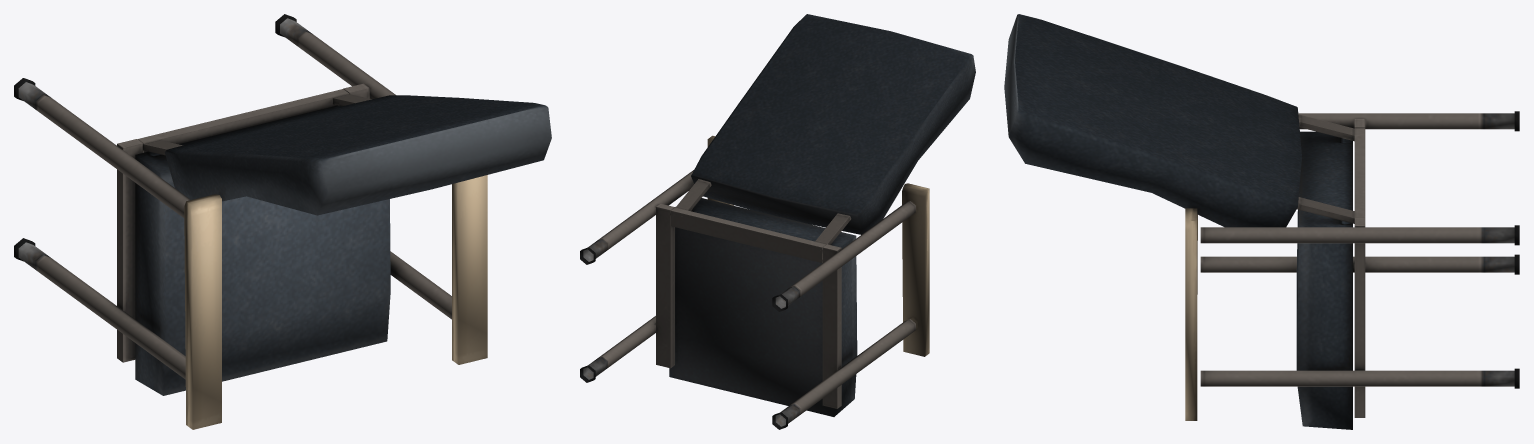
Rendered from VisitorChair.obj.
3 renders of one model, left to right at view 1: azimuth 30°, elevation 25°; view 2: azimuth 150°, elevation 25°; view 3: azimuth 270°, elevation 25°, orthographic. The views are drawn at different scales.
Parts seen in each view (by area): view 1: VisitorChair_Cube.003; view 2: VisitorChair_Cube.003; view 3: VisitorChair_Cube.003.
Boxes of the visible parts, x1,y1,x2,y2 form: VisitorChair_Cube.003: (14,14,551,429); VisitorChair_Cube.003: (580,14,975,429); VisitorChair_Cube.003: (1004,14,1519,429).
Size of the model in its own units: 0.7003 by 0.8102 by 1.18.
Materials: 1 (1 with a texture image).
